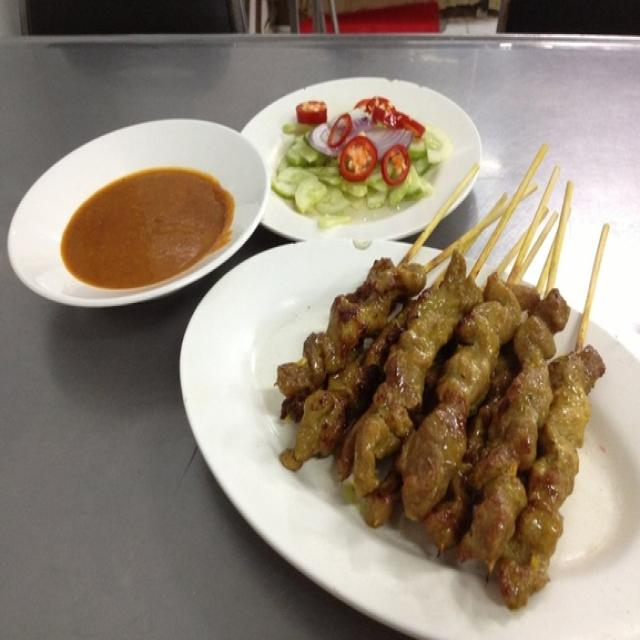牛肉菜式: (264, 146, 621, 624)
